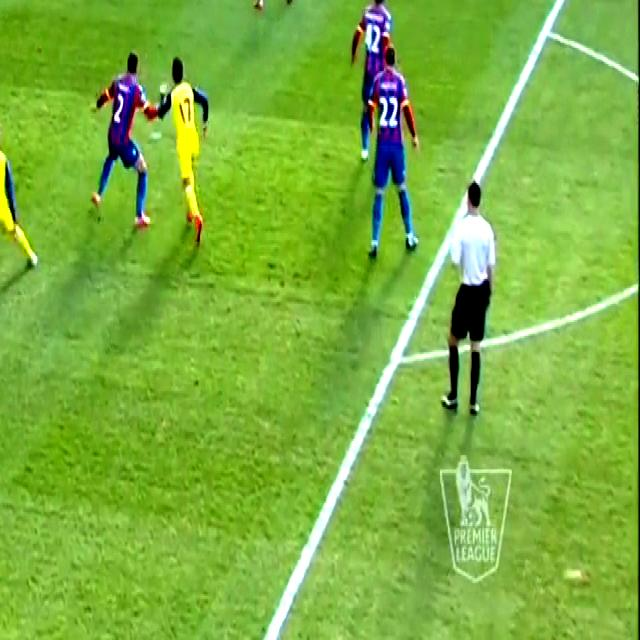referee: (437, 168, 493, 423)
soccer-player: (79, 44, 160, 233), (357, 45, 418, 265), (162, 48, 218, 241), (0, 128, 35, 276), (240, 0, 305, 20), (0, 0, 10, 62)
